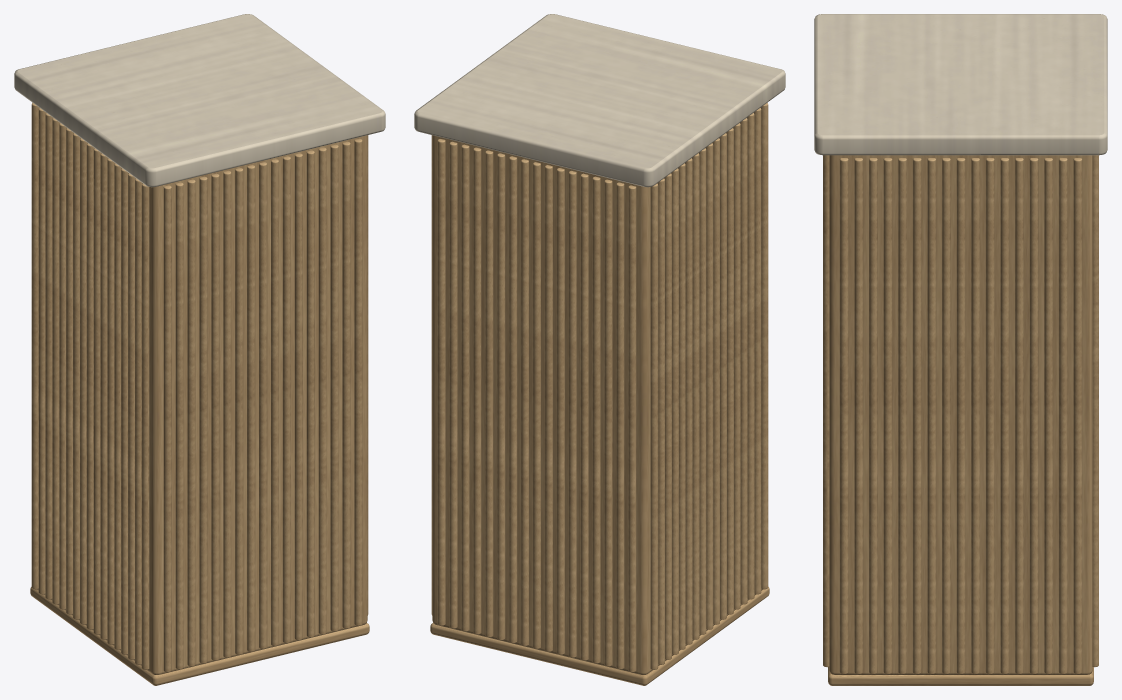
File: plinth_slim.glb
The picture shows the model from 3 angles, left to right: view 1: azimuth 30°, elevation 25°; view 2: azimuth 150°, elevation 25°; view 3: azimuth 270°, elevation 25°; orthographic projection. The views are drawn at different scales.
Visible parts, largest first — view 1: Oak_detail_group, Stone_detail_group; view 2: Oak_detail_group, Stone_detail_group; view 3: Oak_detail_group, Stone_detail_group.
Boxes of the visible parts, box(x1,y1,x2,y2) form: Oak_detail_group: box(30, 102, 369, 685); Stone_detail_group: box(14, 14, 385, 187); Oak_detail_group: box(430, 102, 769, 685); Stone_detail_group: box(414, 14, 785, 187); Oak_detail_group: box(823, 155, 1098, 685); Stone_detail_group: box(814, 14, 1107, 155).
Bounding box in the file's own units: 0.59 × 1.24 × 0.59.
Materials: 2 (2 with a texture image).
